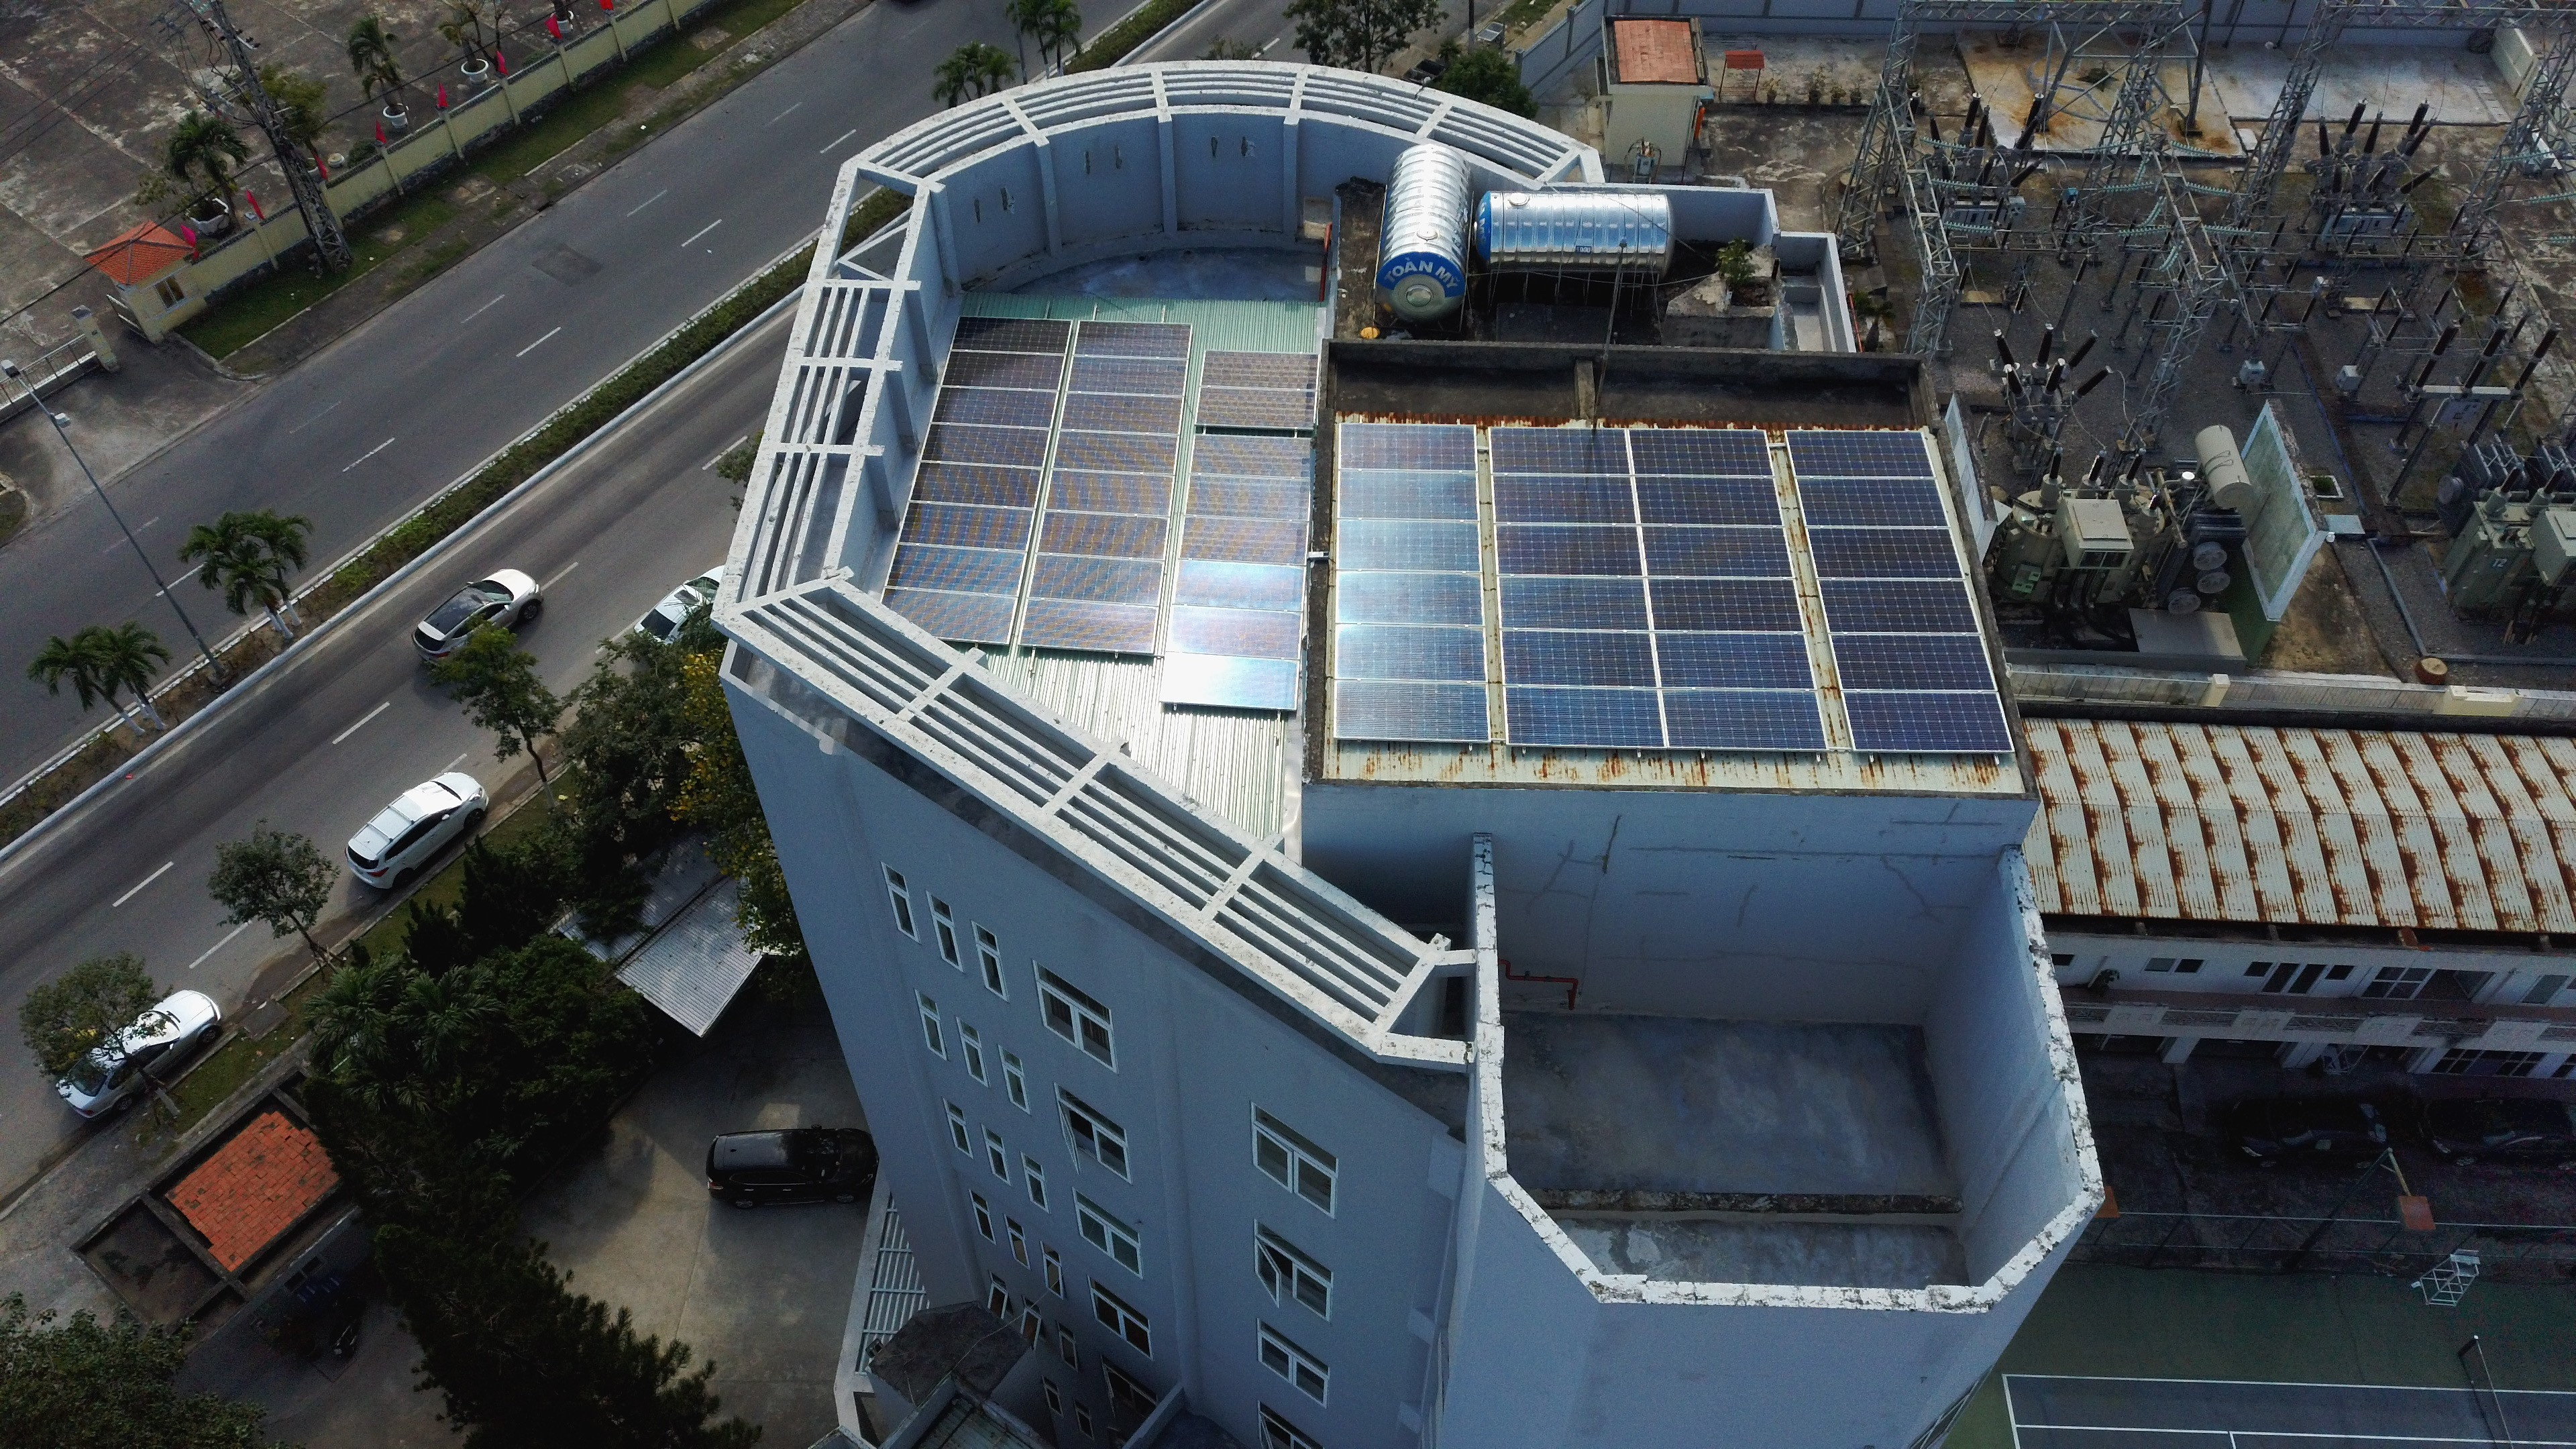solar: (1629, 511, 1813, 589), (1497, 674, 1681, 752), (1491, 621, 1675, 699), (1490, 566, 1674, 644), (1484, 513, 1668, 591), (1320, 455, 1504, 533), (1840, 685, 2024, 761), (1822, 621, 2006, 697), (1803, 515, 1987, 591), (1794, 467, 1978, 543), (1782, 414, 1966, 490), (1621, 458, 1805, 534), (1626, 570, 1810, 646), (1638, 619, 1822, 695), (1654, 678, 1838, 754), (1481, 464, 1665, 540), (1474, 410, 1658, 487), (1330, 407, 1514, 483), (1327, 511, 1511, 587), (1323, 571, 1507, 648), (1325, 621, 1509, 697), (1329, 669, 1513, 745), (1805, 566, 1987, 642), (1624, 412, 1806, 488), (1177, 460, 1322, 533), (1157, 598, 1304, 669), (1164, 550, 1311, 621), (1182, 419, 1329, 490), (1182, 377, 1329, 448), (1155, 648, 1300, 718), (1171, 508, 1316, 579), (1191, 347, 1329, 403), (1062, 347, 1200, 403), (1051, 382, 1189, 439), (1047, 425, 1185, 481), (1042, 464, 1180, 520), (899, 499, 1037, 556), (927, 380, 1065, 437), (943, 306, 1081, 363), (1033, 508, 1169, 564), (1069, 308, 1207, 363), (1024, 547, 1162, 602), (1016, 602, 1154, 656), (881, 586, 1019, 640), (892, 541, 1030, 596), (913, 458, 1051, 513), (920, 419, 1058, 474), (938, 347, 1074, 402)
